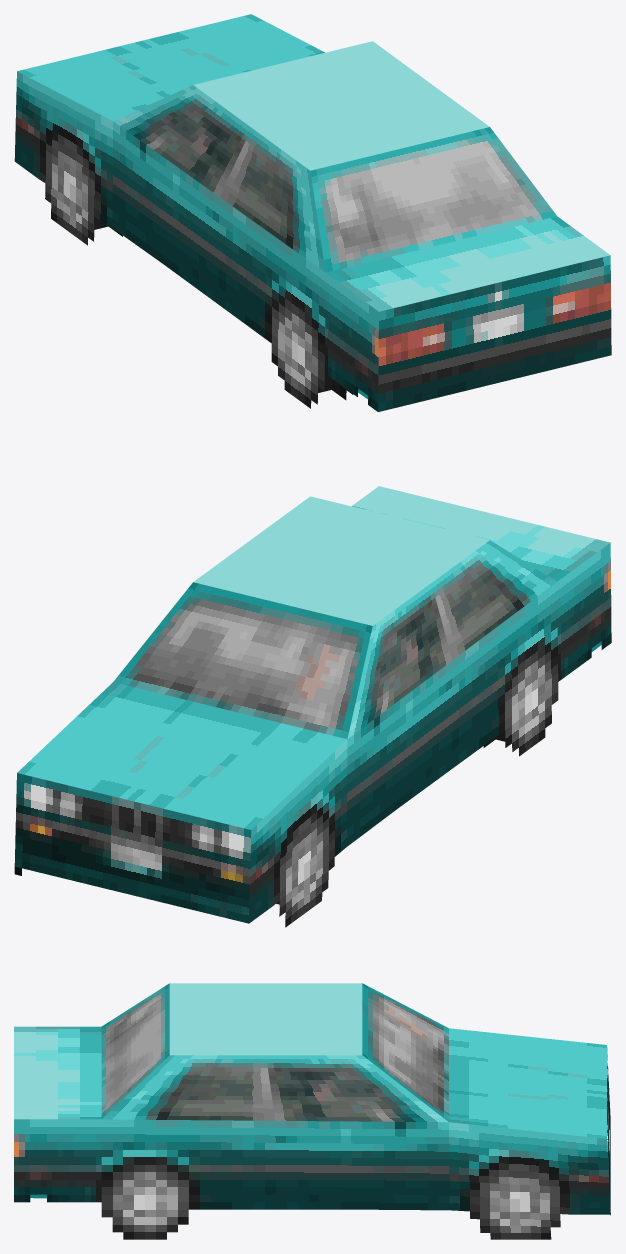
The model's file is car-bmw.glb.
3 views of the same model, one above another, from view 1: azimuth 30°, elevation 25°; view 2: azimuth 150°, elevation 25°; view 3: azimuth 270°, elevation 25° (orthographic). The views are drawn at different scales.
Visible parts, largest first — view 1: plt0; view 2: plt0; view 3: plt0.
Boxes of the visible parts, x1,y1,x2,y2 form: plt0: (14,14,611,411); plt0: (14,486,611,927); plt0: (14,983,610,1239).
Bounding box in the file's own units: 1.41 × 1.21 × 3.78.
15 materials, 15 textured.
